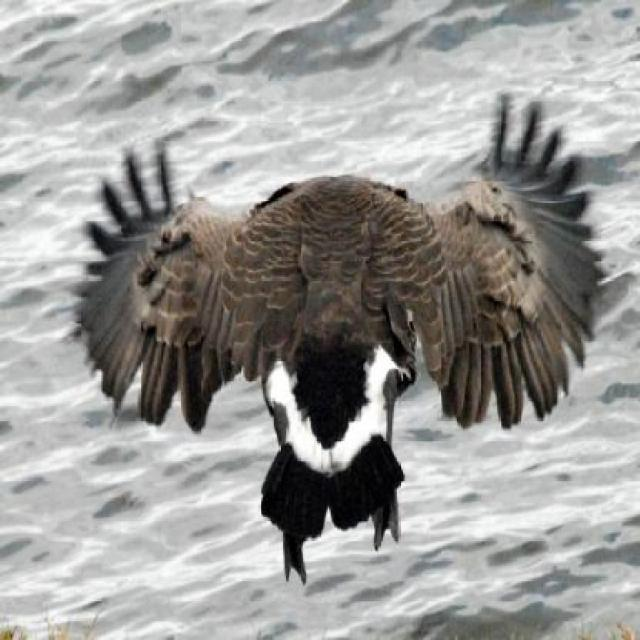Eagle: (80, 119, 600, 551)
